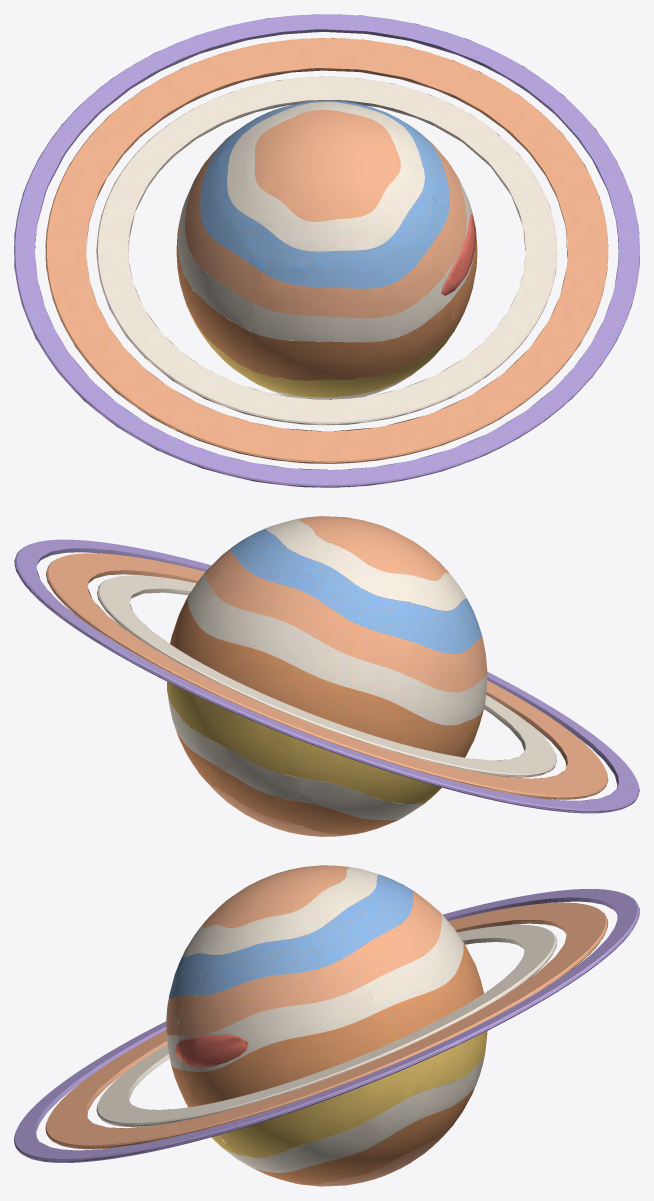
The model's file is goku.glb.
3 renders of one model, top to bottom at view 1: azimuth 30°, elevation 25°; view 2: azimuth 150°, elevation 25°; view 3: azimuth 270°, elevation 25°, orthographic. The views are drawn at different scales.
Visible parts, largest first — view 1: ringed-planet_body; view 2: ringed-planet_body; view 3: ringed-planet_body.
Boxes of the visible parts, x1,y1,x2,y2 form: ringed-planet_body: [14, 14, 639, 487]; ringed-planet_body: [14, 516, 639, 836]; ringed-planet_body: [14, 865, 639, 1186].
Bounding box in the file's own units: 4.07 × 2 × 3.9.
1 material, 1 textured.
